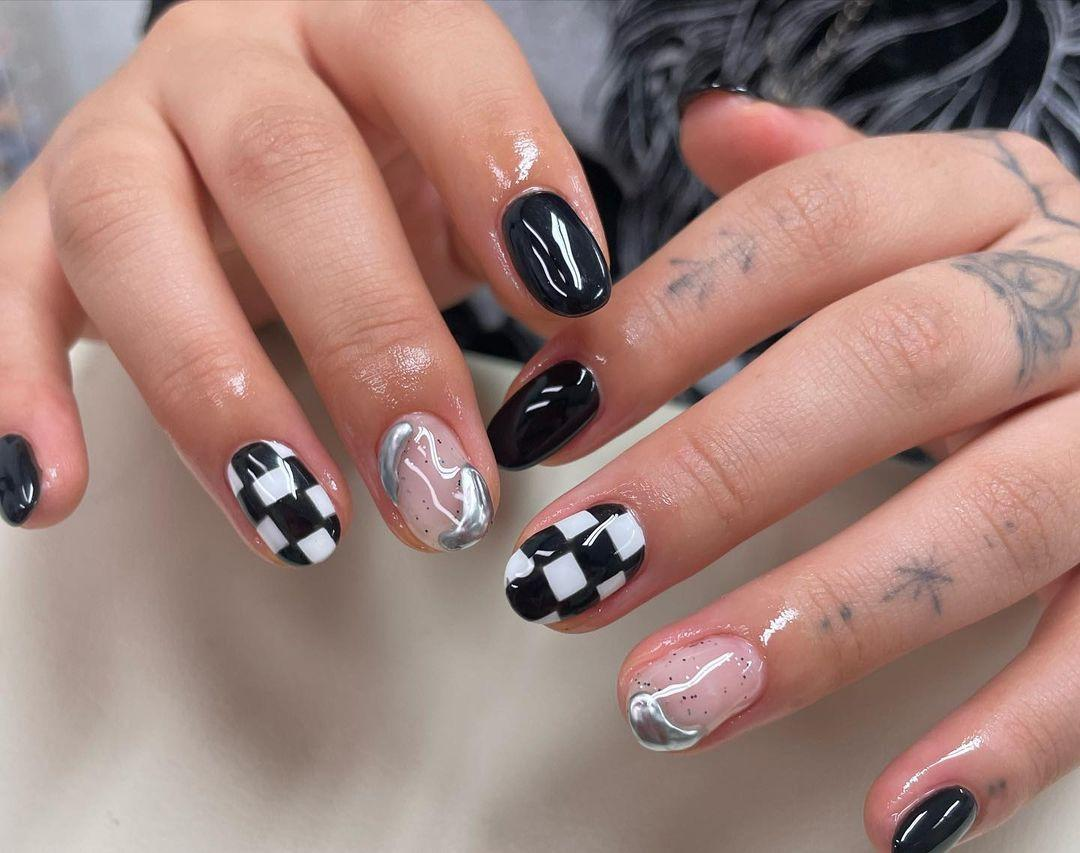nail: (503, 499, 647, 626), (621, 630, 768, 752), (376, 409, 494, 552), (497, 185, 612, 318), (225, 437, 341, 567), (485, 357, 602, 471), (889, 782, 978, 851), (0, 431, 41, 526)
